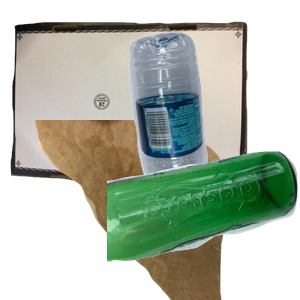cardboard: (10, 19, 250, 199)
glass: (107, 149, 300, 300)
plastic: (127, 29, 300, 209)
trash: (32, 120, 248, 300)
